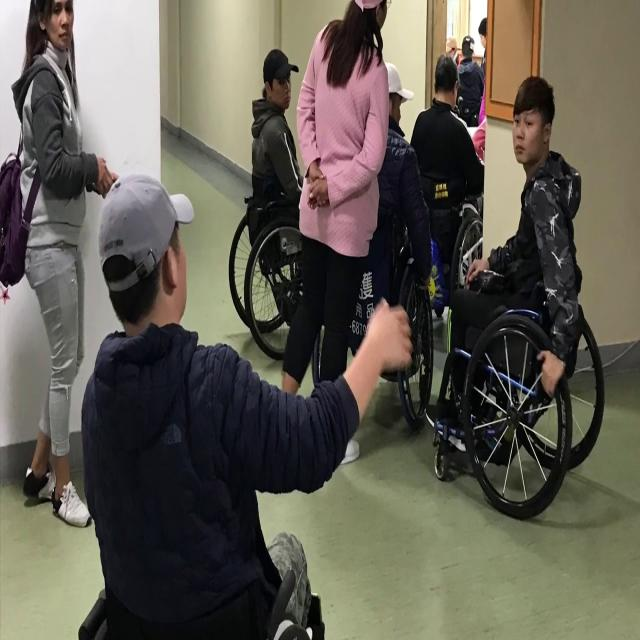wheelchairs: (422, 288, 620, 528), (301, 217, 442, 437), (215, 151, 348, 369)
